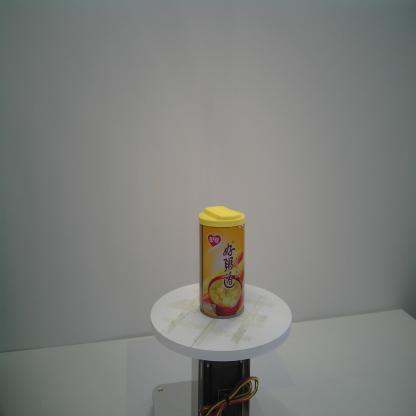Canned Food: (197, 205, 246, 321)
